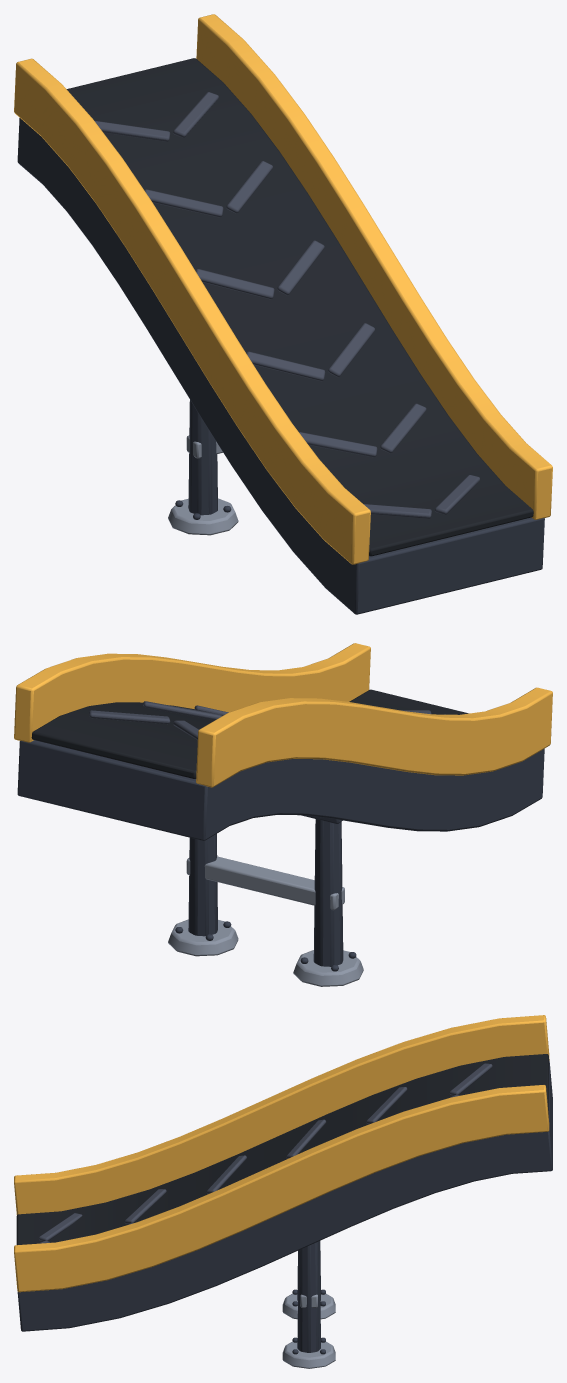
Rendered from band_rampe.fbx.
3 renders of one model, top to bottom at view 1: azimuth 30°, elevation 25°; view 2: azimuth 150°, elevation 25°; view 3: azimuth 270°, elevation 25°, orthographic. The views are drawn at different scales.
Parts seen in each view (by area): view 1: band_rampe_Koerper; view 2: band_rampe_Koerper; view 3: band_rampe_Koerper.
Boxes of the visible parts, x1=… form: band_rampe_Koerper: x1=14, y1=14, x2=552, y2=614; band_rampe_Koerper: x1=14, y1=643, x2=552, y2=986; band_rampe_Koerper: x1=14, y1=1015, x2=552, y2=1368.
Size of the model in its own units: 1.02 by 1.75 by 3.04.
